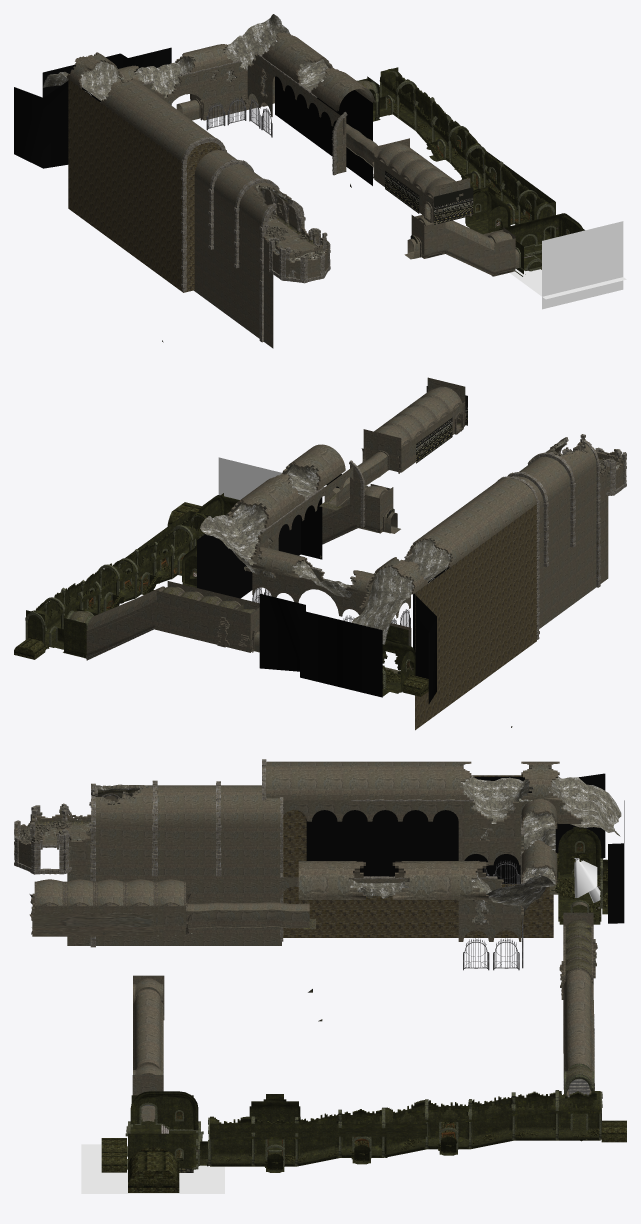
File: map_part2.fbx
3 views of the same model, one above another, from view 1: azimuth 30°, elevation 25°; view 2: azimuth 150°, elevation 25°; view 3: azimuth 270°, elevation 25° (orthographic). The views are drawn at different scales.
Visible parts, largest first — view 1: m0062B1A18, m0150B1A18, m0100B1A18, m0090B1A18, m0140B1A18, m0130B1A18, m0080B1A18, m0110B1A18, m0061B1A18; view 2: m0062B1A18, m0150B1A18, m0080B1A18, m0090B1A18, m0140B1A18, m0100B1A18, m0130B1A18, m0070B1A18, m0110B1A18; view 3: m0062B1A18, m0150B1A18, m0090B1A18, m0140B1A18, m0100B1A18, m0080B1A18, m0070B1A18, m0130B1A18, m0061B1A18, m0110B1A18.
Boxes of the visible parts, box(x1,y1,x2,y2) form: m0062B1A18: box(14, 14, 374, 292); m0150B1A18: box(194, 150, 330, 348); m0100B1A18: box(499, 213, 626, 309); m0090B1A18: box(379, 67, 555, 239); m0140B1A18: box(331, 123, 473, 224); m0130B1A18: box(404, 215, 519, 276); m0080B1A18: box(176, 76, 391, 121); m0110B1A18: box(465, 186, 510, 234); m0061B1A18: box(206, 97, 272, 137); m0062B1A18: box(197, 444, 539, 730); m0150B1A18: box(507, 434, 626, 628); m0080B1A18: box(48, 581, 259, 660); m0090B1A18: box(14, 510, 211, 659); m0140B1A18: box(319, 377, 467, 510); m0100B1A18: box(167, 457, 281, 538); m0130B1A18: box(322, 484, 400, 544); m0070B1A18: box(382, 623, 428, 696); m0110B1A18: box(182, 545, 196, 587); m0062B1A18: box(262, 759, 624, 941); m0150B1A18: box(14, 780, 281, 947); m0090B1A18: box(200, 1090, 626, 1172); m0140B1A18: box(29, 879, 315, 936); m0100B1A18: box(81, 1091, 224, 1193); m0080B1A18: box(559, 912, 597, 1131); m0070B1A18: box(549, 827, 607, 924); m0130B1A18: box(132, 975, 164, 1121); m0061B1A18: box(463, 860, 523, 970); m0110B1A18: box(249, 1094, 300, 1152).
Size of the model in its own units: 63.24 by 31.27 by 64.25.
